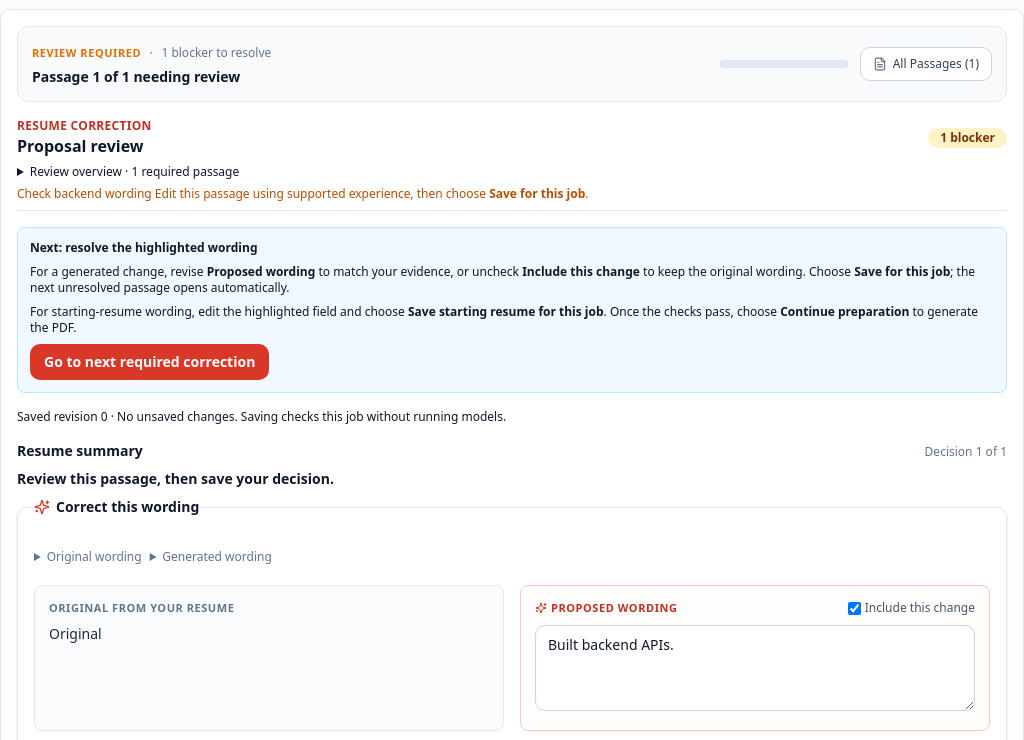
it: acknowledges a passing correction and opens the next required starting-resume field
Replace the text in the text box named "Proposed wording" with "Built APIs." at (755, 668), box [535,624,975,711]
(page scrolled)
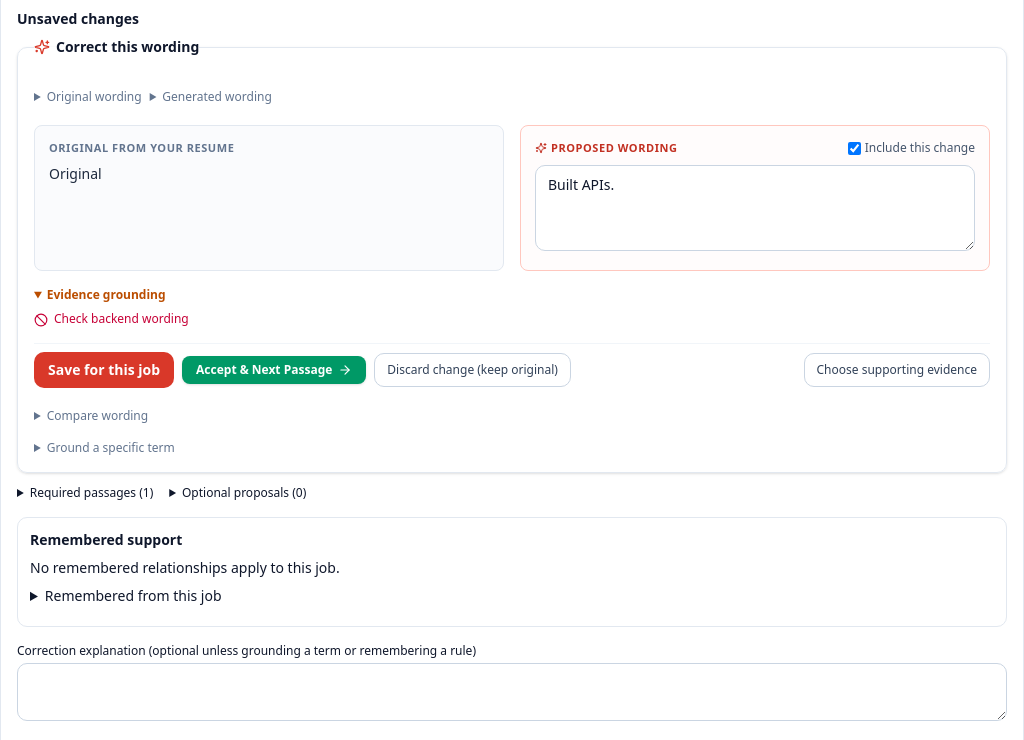
Click the button "Save for this job" at (104, 370), box [34,352,174,388]
(page scrolled)
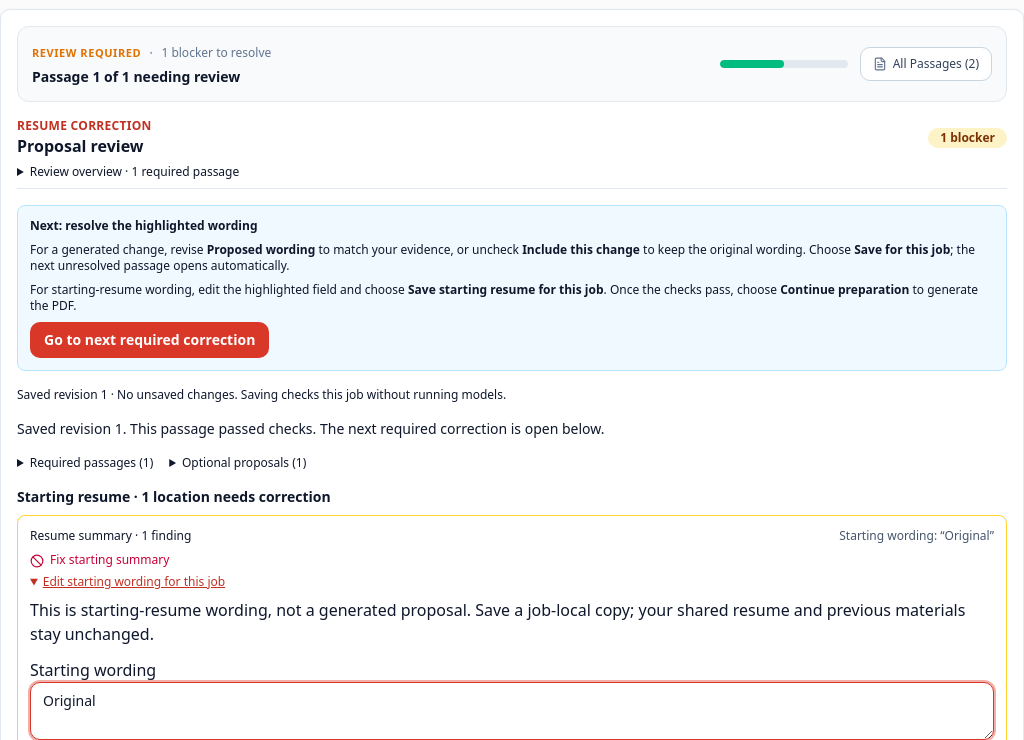
Now the text "This passage passed checks. The next required correction is open below" is shown, box [17,419,604,438]
